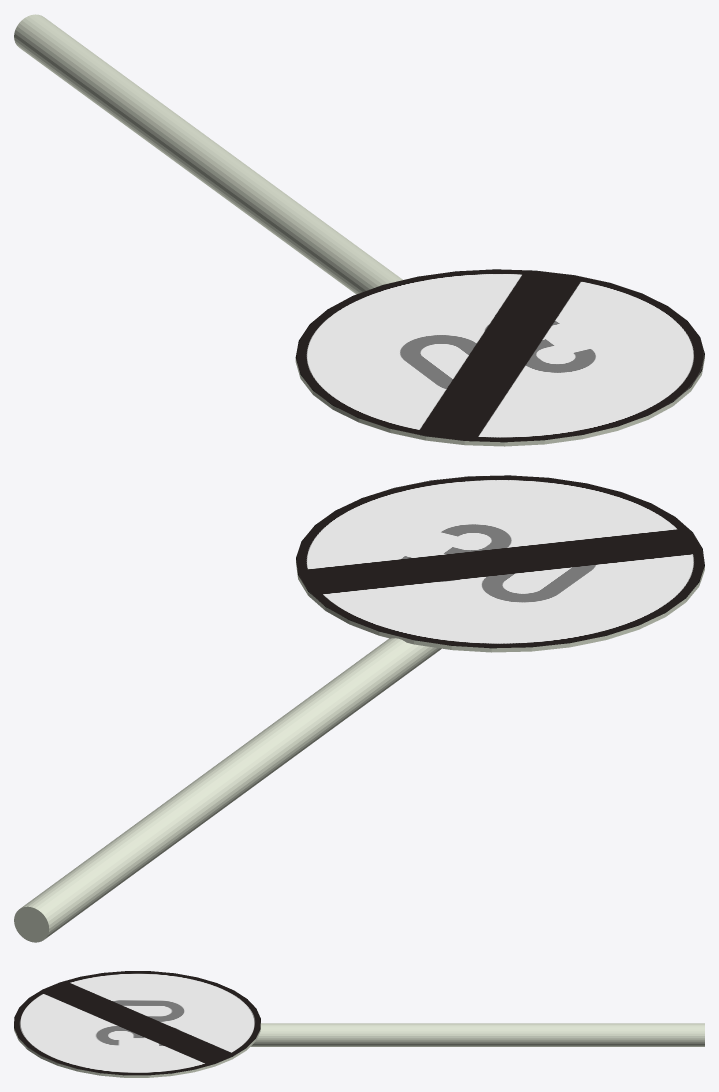
The model's file is no_limit.glb.
3 views of the same model, one above another, from view 1: azimuth 30°, elevation 25°; view 2: azimuth 150°, elevation 25°; view 3: azimuth 270°, elevation 25° (orthographic). The views are drawn at different scales.
Parts seen in each view (by area): view 1: Circle.003, no_limit_tube; view 2: Circle.003, no_limit_tube; view 3: Circle.003, no_limit_tube.
Part boxes in pixels (x1,y1,x2,y2): Circle.003: (295,269,704,446); no_limit_tube: (14,14,402,294); Circle.003: (296,475,704,652); no_limit_tube: (14,638,441,942); Circle.003: (14,971,260,1077); no_limit_tube: (250,1023,704,1046).
Size of the model in its own units: 0.0513 by 0.00515 by 0.1435.
Materials: 3 (1 with a texture image).
